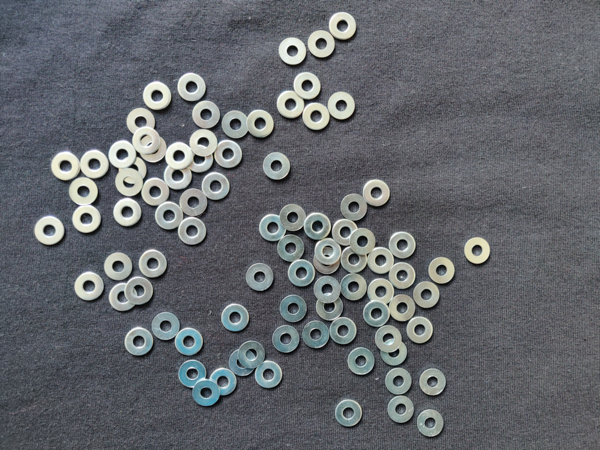circle: (121, 328, 156, 359), (32, 215, 66, 246), (414, 407, 446, 438), (67, 177, 99, 208), (150, 311, 181, 342), (102, 251, 134, 281), (270, 324, 300, 355), (74, 271, 104, 302), (178, 71, 208, 102), (244, 263, 276, 292), (262, 152, 292, 182), (278, 37, 308, 67), (333, 400, 364, 429), (346, 348, 377, 377), (71, 205, 102, 234), (326, 92, 357, 121), (464, 237, 493, 267), (314, 293, 344, 322), (202, 173, 232, 202), (184, 145, 214, 174), (214, 140, 244, 169), (108, 139, 137, 169), (189, 128, 219, 157), (192, 100, 222, 129), (209, 368, 237, 399), (124, 278, 155, 306), (161, 162, 192, 190), (303, 103, 331, 134), (309, 29, 337, 60), (292, 73, 324, 100), (412, 282, 441, 311), (276, 233, 305, 262), (255, 361, 284, 390), (175, 328, 204, 357), (178, 217, 207, 246), (51, 152, 80, 181), (221, 110, 250, 139), (329, 11, 358, 40), (379, 341, 409, 369), (303, 321, 331, 351), (339, 272, 367, 302), (278, 294, 308, 322), (221, 305, 251, 333), (139, 250, 169, 278), (114, 169, 144, 197), (310, 249, 341, 276), (339, 194, 370, 221), (117, 158, 149, 184), (387, 397, 416, 425), (191, 381, 220, 409), (179, 360, 207, 389), (154, 203, 183, 231), (113, 200, 142, 228), (178, 189, 207, 217), (142, 177, 170, 206), (143, 81, 171, 110), (246, 109, 274, 138), (429, 256, 456, 286), (280, 202, 307, 232), (80, 151, 110, 178), (276, 91, 306, 118), (419, 368, 447, 396), (388, 294, 416, 322), (304, 213, 332, 241), (362, 180, 390, 208), (237, 341, 265, 369), (228, 350, 256, 378), (313, 276, 342, 303), (126, 108, 155, 135), (384, 370, 414, 396), (407, 318, 435, 345), (331, 318, 358, 346), (341, 246, 369, 273), (288, 260, 316, 287), (109, 287, 137, 314), (139, 134, 165, 163), (131, 127, 160, 153), (361, 302, 391, 327), (315, 239, 342, 266), (165, 141, 192, 168), (374, 326, 402, 352), (368, 248, 396, 274), (390, 233, 417, 259), (258, 216, 285, 242), (389, 264, 417, 289), (349, 229, 377, 254), (333, 220, 359, 246), (370, 278, 394, 305)
